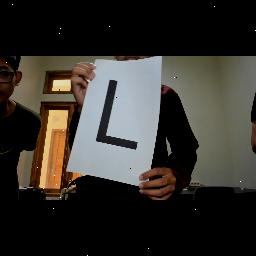l: (84, 76, 144, 154)
